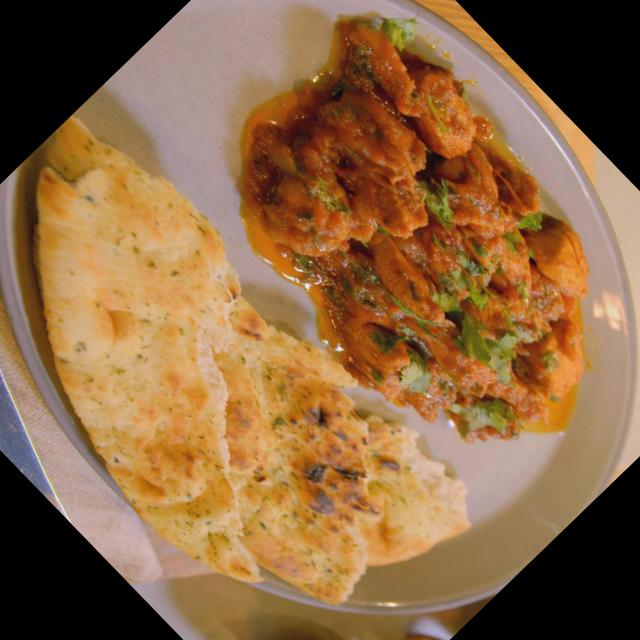chicken: (198, 4, 640, 471)
roti: (0, 144, 465, 630)
